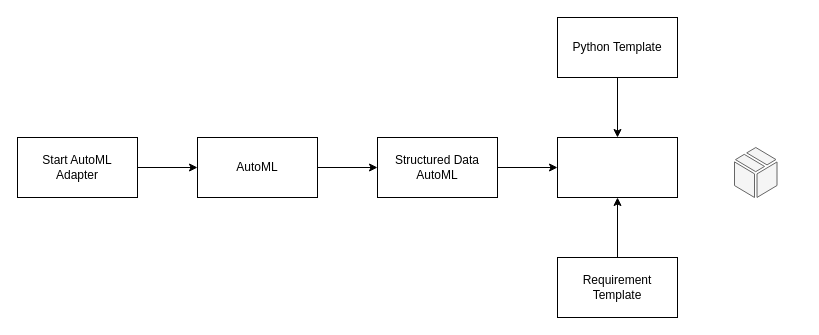
Image size: 819x335. Some labels were removed from this diagram. The box of each missing label's shape, as (x1, y1, x2, y2) in pixels:
automl-export.zip: (734, 146, 777, 198)
Template Generator: (556, 136, 678, 198)
